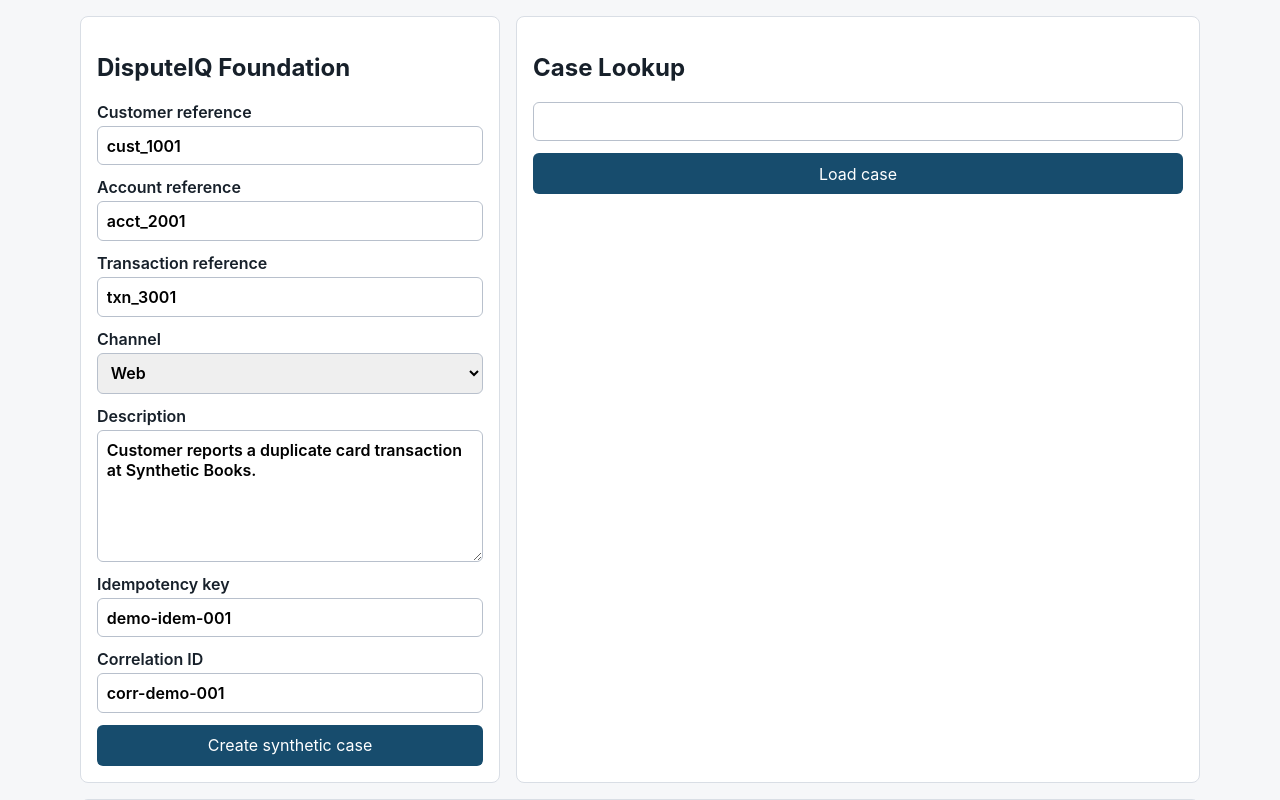
it: shows a visible error when case lookup fails
This screenshot has width=1280, height=800.
In the field named "case id": (858, 122) [533,102,1183,141], type "missing-case"
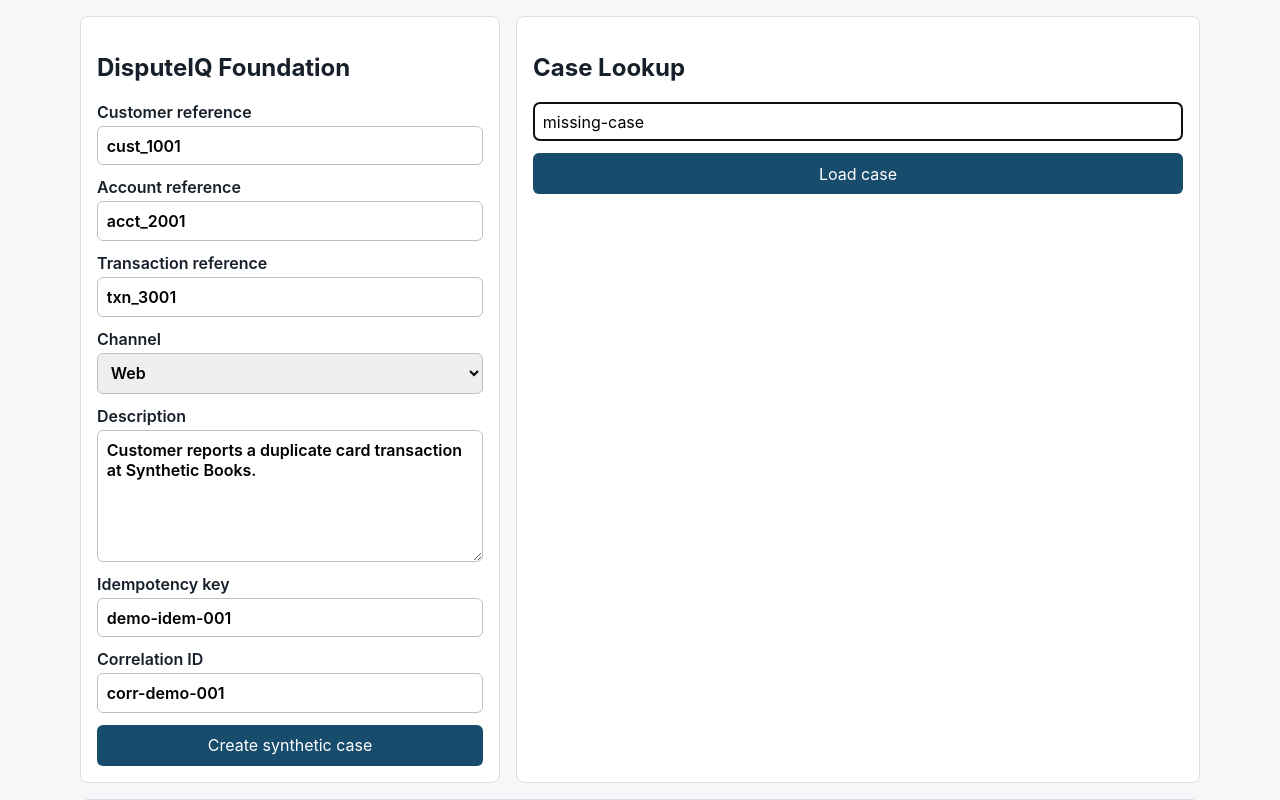
Click the button "Load case": click(858, 174) [533,153,1183,194]
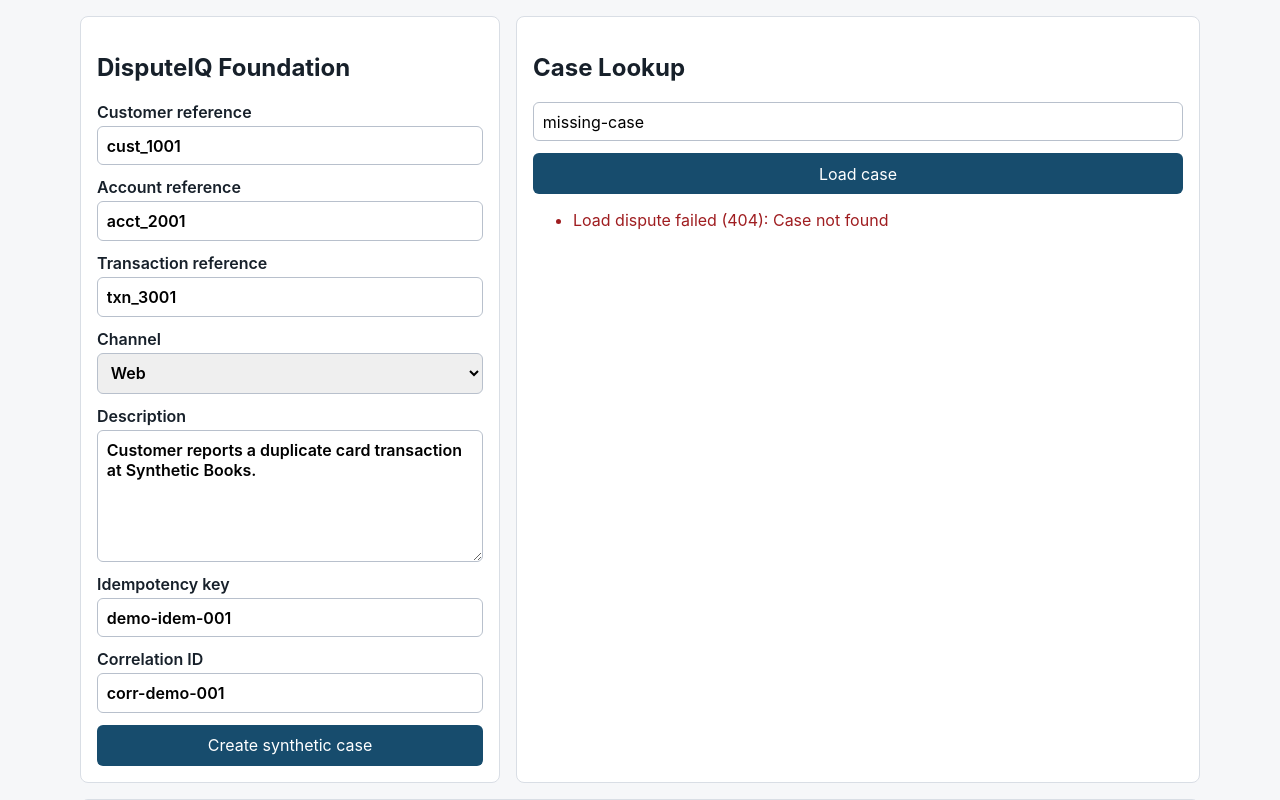
Expected: the message reads "Load dispute failed (404): Case not found", [573,210,888,230]
